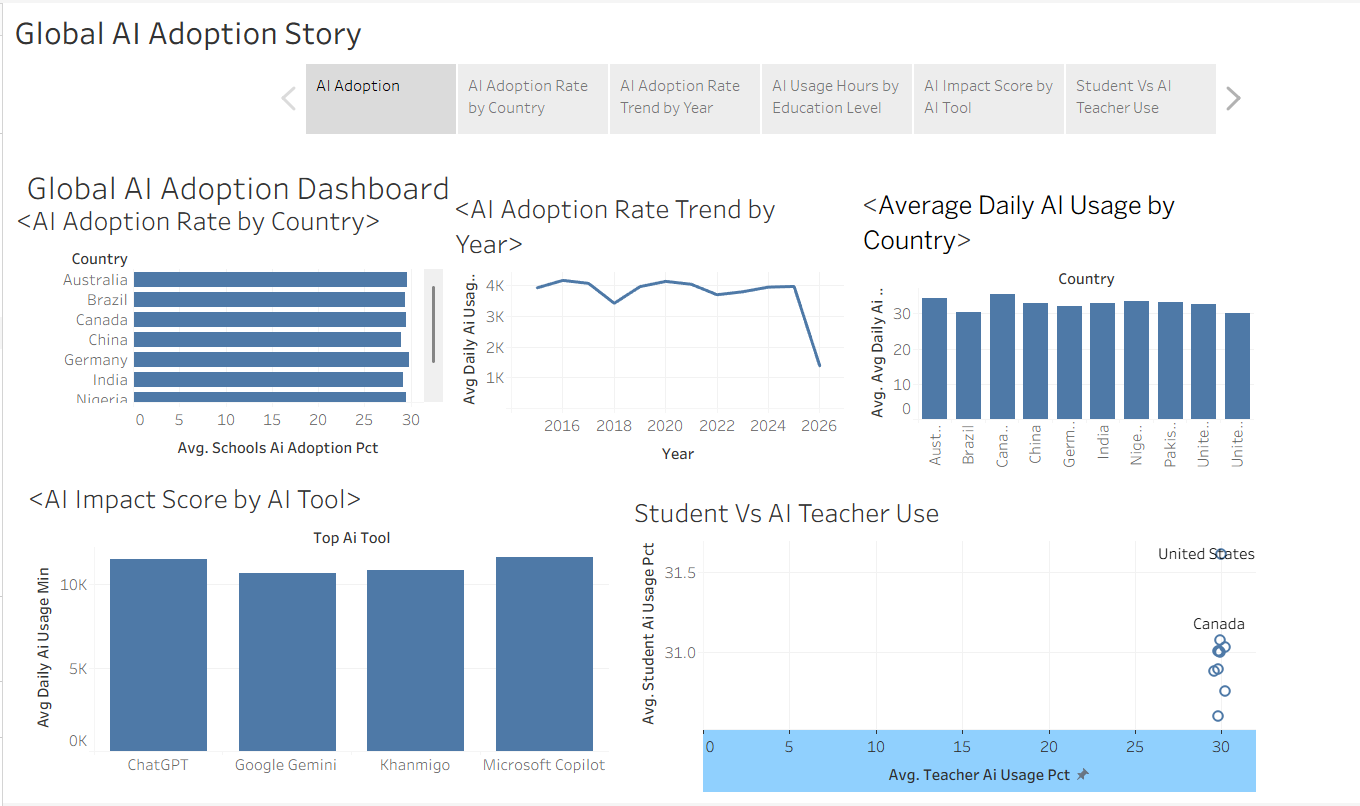

What the dashboard file says about the page in this screenshot:
{"tool":"tableau","page":{"name":"Global AI Adoption Dashboard","canvas":[1000,1000],"units":"permille","ordinal":0},"visuals":[{"type":"worksheet","title":"AI Adoption Rate by Country","mark":"Automatic","rows":["country"],"cols":["avg_daily_ai_usage_min"],"box":[1.5,8.2,344.4,477.7]},{"type":"worksheet","title":"AI Usage Hours by Education Level","mark":"Automatic","rows":["avg_daily_ai_usage_min"],"cols":["education_index"],"box":[678.5,45.8,316.3,447.2]},{"type":"worksheet","title":"AI Adoption Rate Trend by Year","mark":"Automatic","rows":["avg_daily_ai_usage_min"],"cols":["year"],"box":[351.9,51.6,314.8,442.5]},{"type":"worksheet","title":"Student Vs AI Teacher Use","mark":"Automatic","rows":["student_ai_usage_pct"],"cols":["teacher_ai_usage_pct"],"box":[495.6,501.2,500.7,494.1]},{"type":"worksheet","title":"AI Impact Score by AI Tool","mark":"Automatic","rows":["avg_daily_ai_usage_min"],"cols":["top_ai_tool"],"box":[11.1,503.5,467.4,489.4]}]}

Visuals, with their boxes on the dashboard's canvas, which has no fixed pixel size, in thousandths of its width and height (x1, y1, x2, y2). These are canvas units, not pixel positions in the 1360x806 screenshot, which may show the page scaled, cropped or inside an application window:
"AI Adoption Rate by Country" worksheet: left=2, top=8, right=346, bottom=486
"AI Usage Hours by Education Level" worksheet: left=678, top=46, right=995, bottom=493
"AI Adoption Rate Trend by Year" worksheet: left=352, top=52, right=667, bottom=494
"Student Vs AI Teacher Use" worksheet: left=496, top=501, right=996, bottom=995
"AI Impact Score by AI Tool" worksheet: left=11, top=504, right=478, bottom=993
